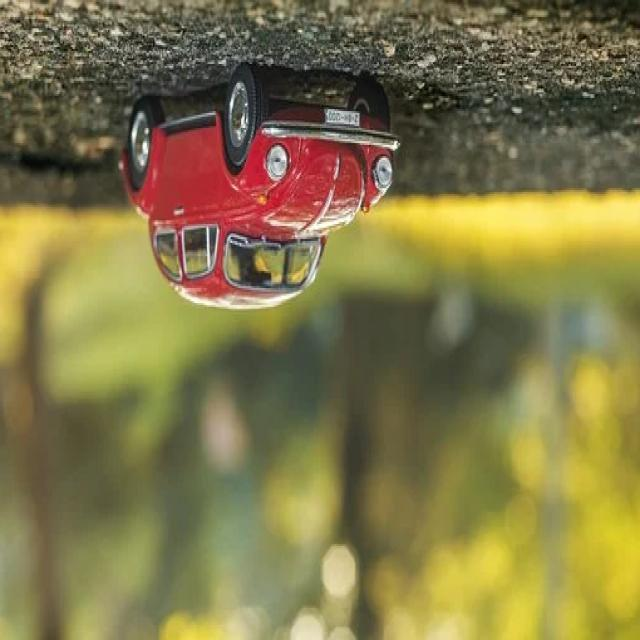Car: (119, 64, 402, 312)
